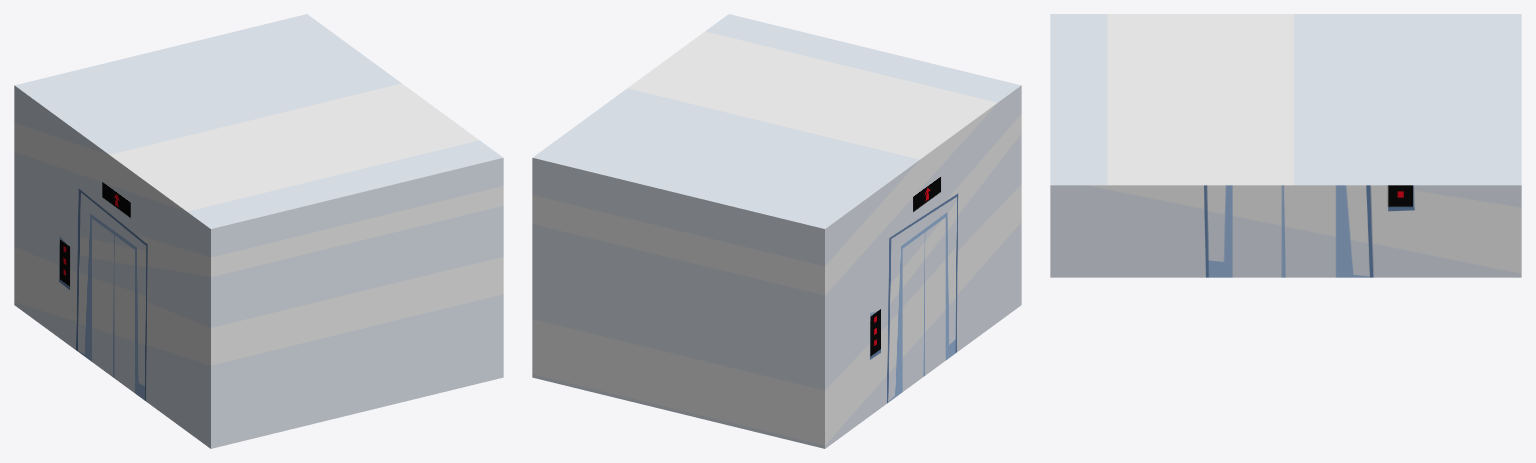
Rendered from elevator.fbx.
3 renders of one model, left to right at view 1: azimuth 30°, elevation 25°; view 2: azimuth 150°, elevation 25°; view 3: azimuth 270°, elevation 25°, orthographic. The views are drawn at different scales.
Parts seen in each view (by area): view 1: elevator; view 2: elevator; view 3: elevator.
Boxes of the visible parts, x1=… form: elevator: x1=14, y1=14, x2=503, y2=448; elevator: x1=532, y1=14, x2=1021, y2=448; elevator: x1=1050, y1=14, x2=1521, y2=277.
Bounding box in the file's own units: 139 × 100 × 162.
